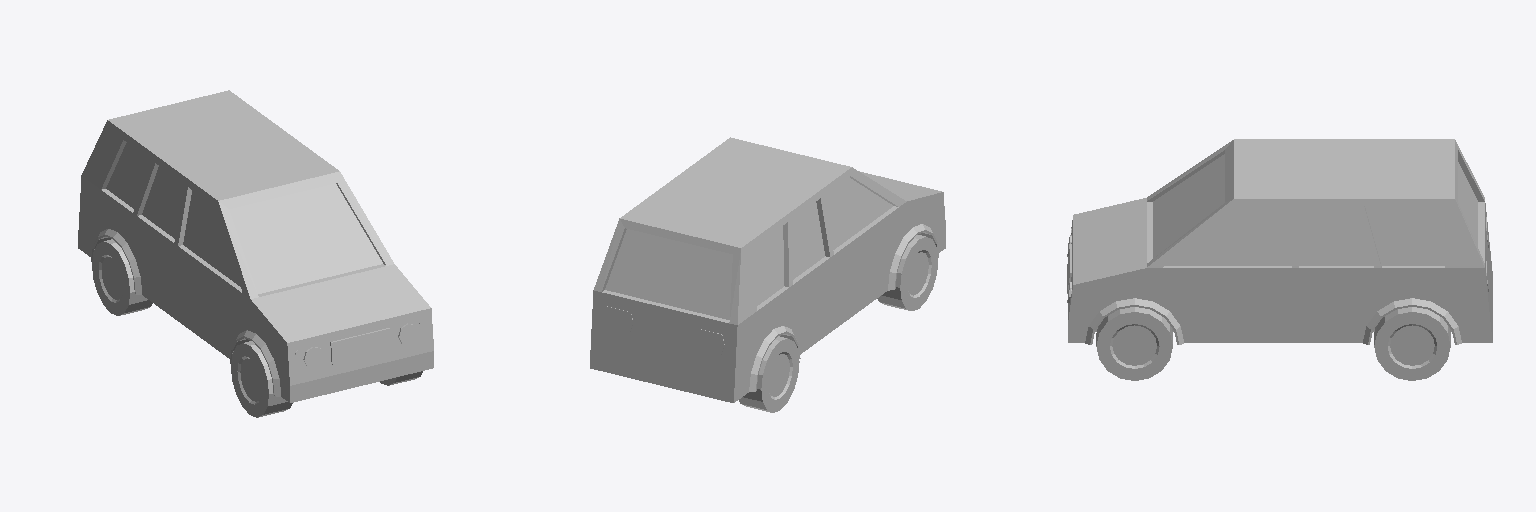
The model's file is car-mpv-silver.obj.
3 renders of one model, left to right at view 1: azimuth 30°, elevation 25°; view 2: azimuth 150°, elevation 25°; view 3: azimuth 270°, elevation 25°, orthographic.
Visible parts, largest first — view 1: car-mpv-silver_Cube.631; view 2: car-mpv-silver_Cube.631; view 3: car-mpv-silver_Cube.631.
Boxes of the visible parts, box(x1,y1,x2,y2) form: car-mpv-silver_Cube.631: box(78, 90, 433, 417); car-mpv-silver_Cube.631: box(590, 137, 945, 412); car-mpv-silver_Cube.631: box(1067, 139, 1492, 380).
Size of the model in its own units: 0.854 by 0.9 by 2.